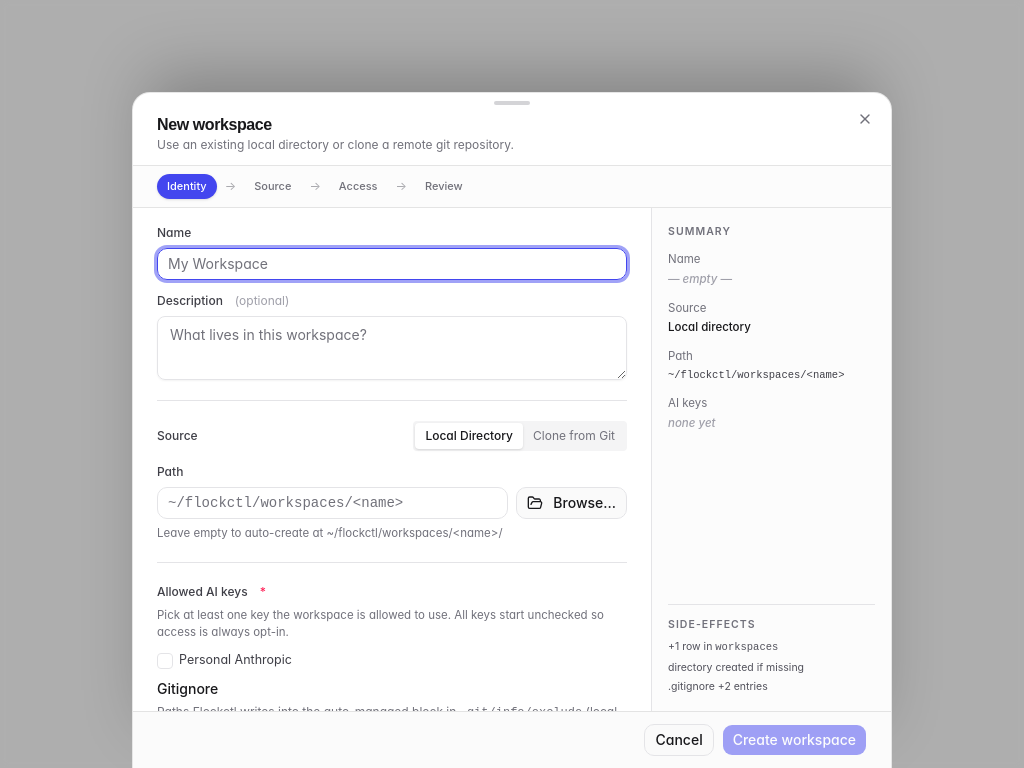
Test: NewWorkspaceDialog / source segment toggle › swaps the path field for a repoUrl field when 'Clone from Git' is picked
Check: the field labelled "Path" is shown, box [157,487,508,519]
Check: the field labelled "Repository URL" is not shown
Click the radio button labelled "Clone from Git".
click(574, 436)  # box [523,423,625,449]
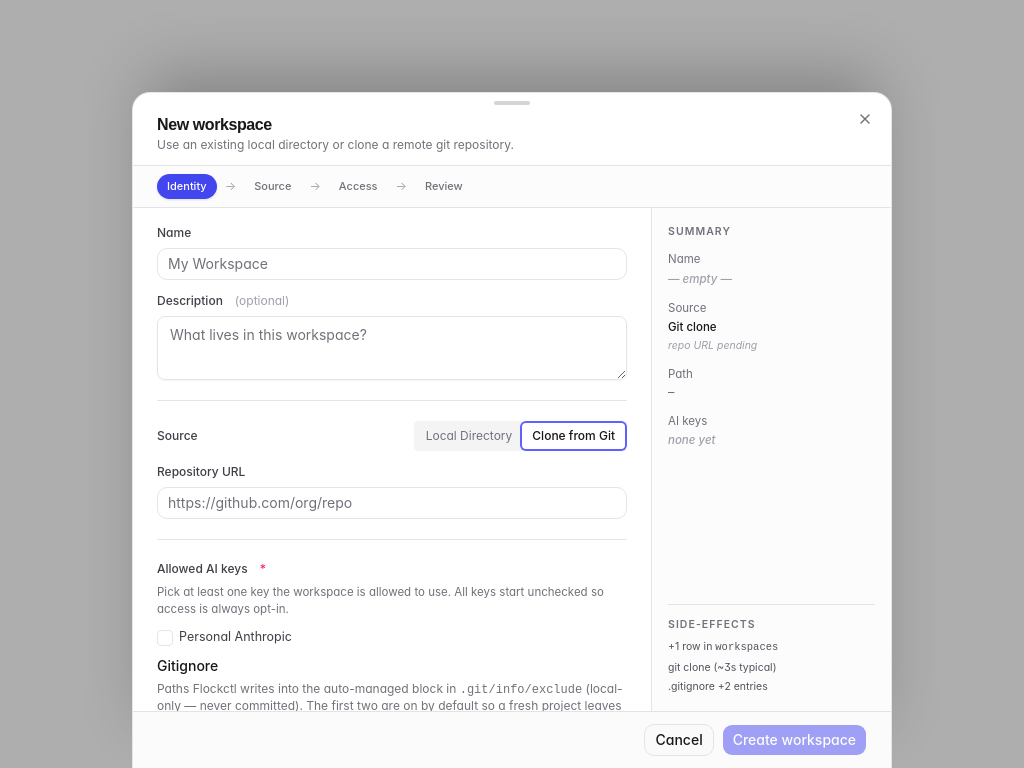
Check: the field labelled "Repository URL" is shown, box [157,487,627,519]
